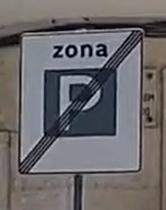fim de zona de estacionamento autorizado: (11, 21, 149, 182)
